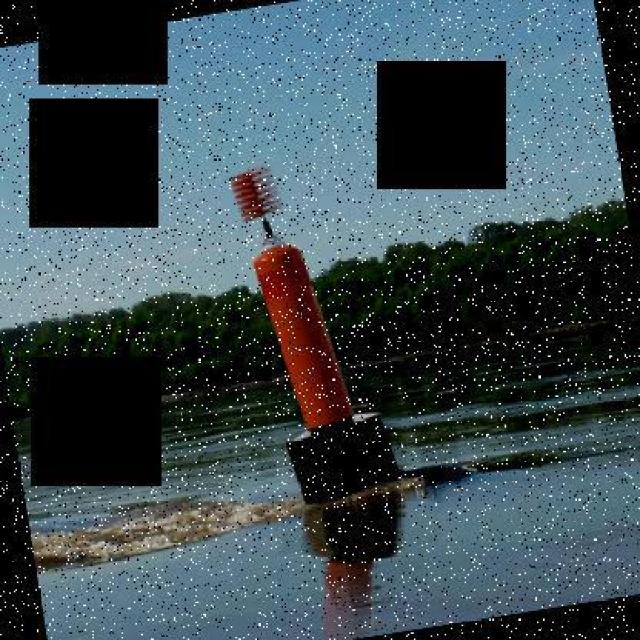Red Buoy: (252, 247, 357, 425)
